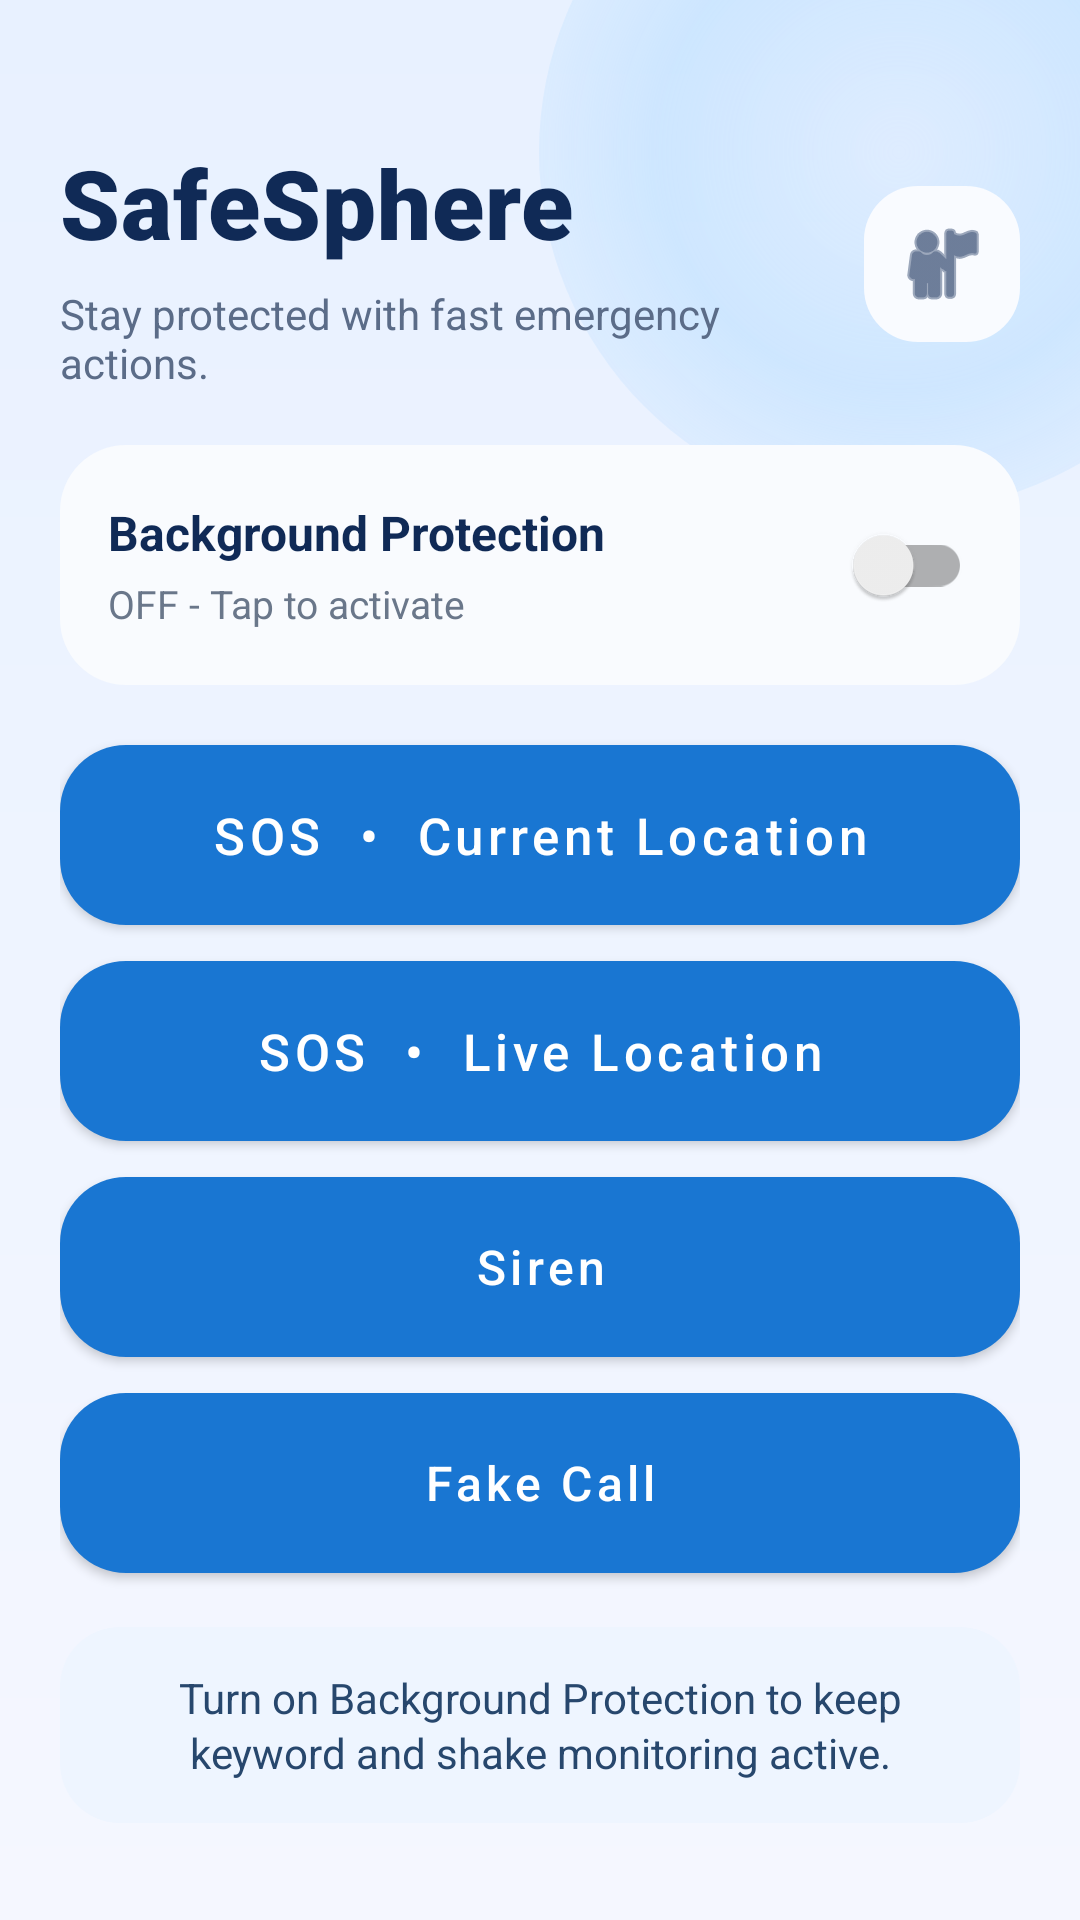

Point at icon controls on the screen. Image size 1080*1920, points as (x=x, y=y).
Profile: (x=942, y=264)
